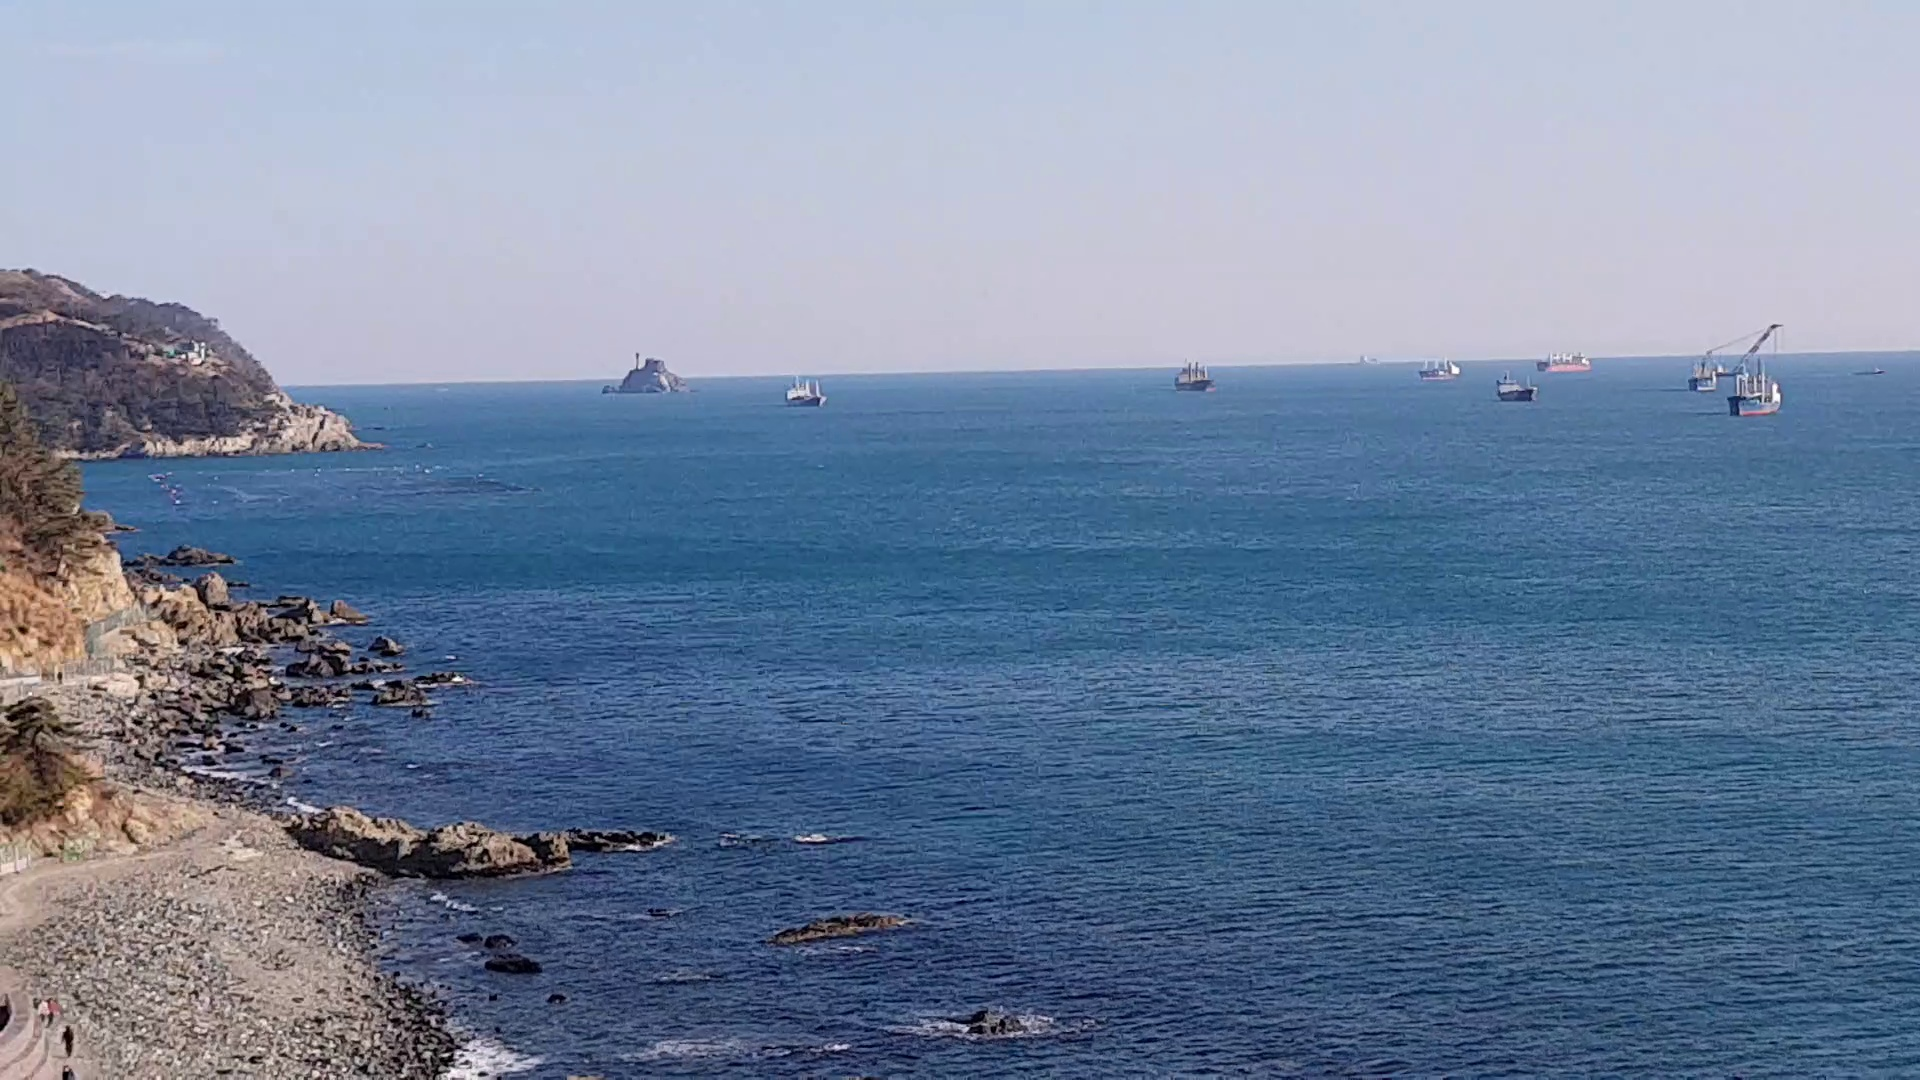Bulk_Carrier: (596, 365, 684, 392), (779, 384, 825, 402), (1174, 369, 1208, 386)
